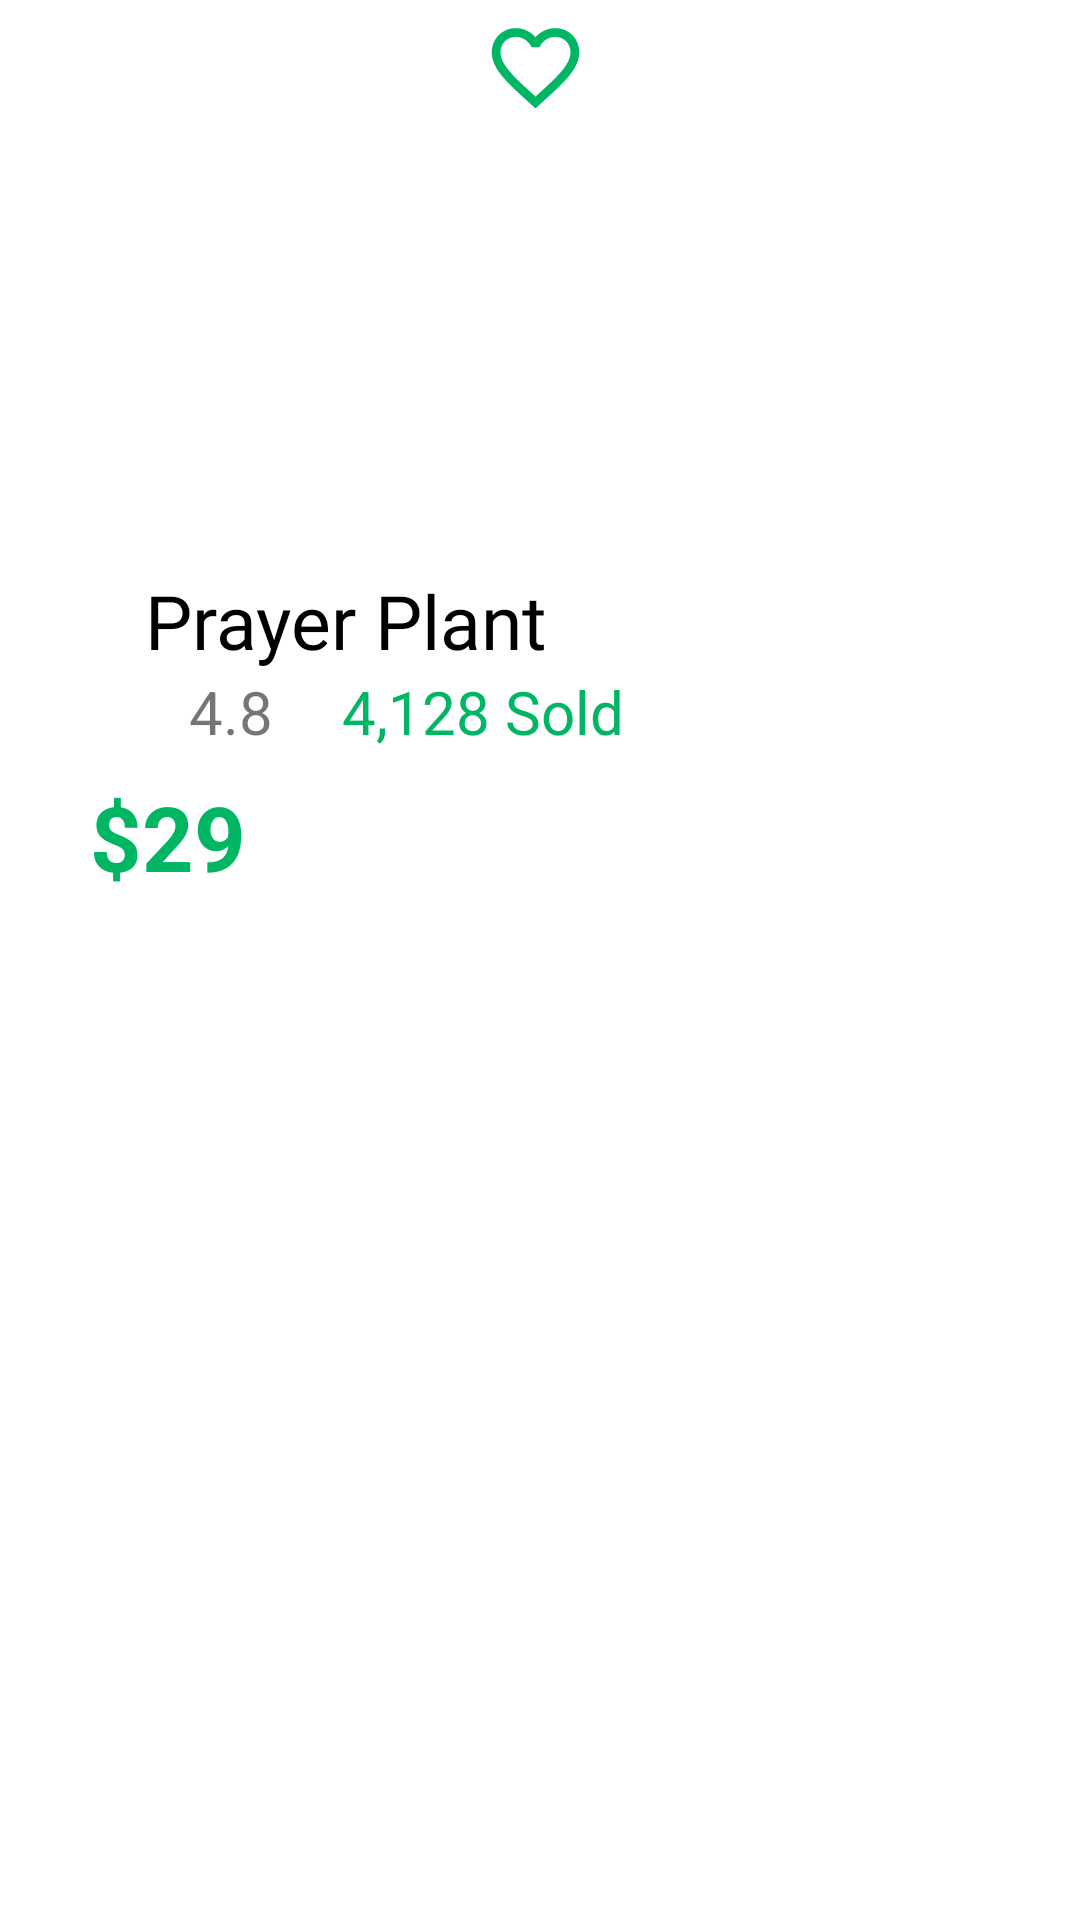

Named icons in this screenshot (1080 x 1920) and their centers, (x=x, y=y):
favorite border: (x=535, y=68)
